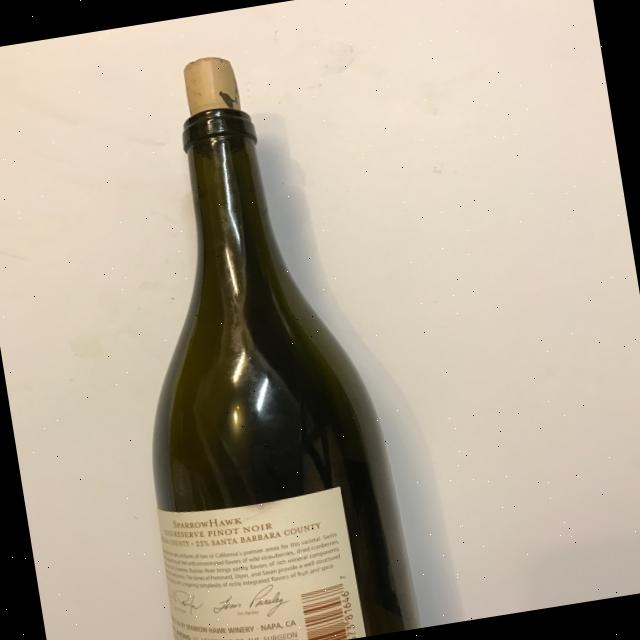glass: (91, 40, 434, 640)
